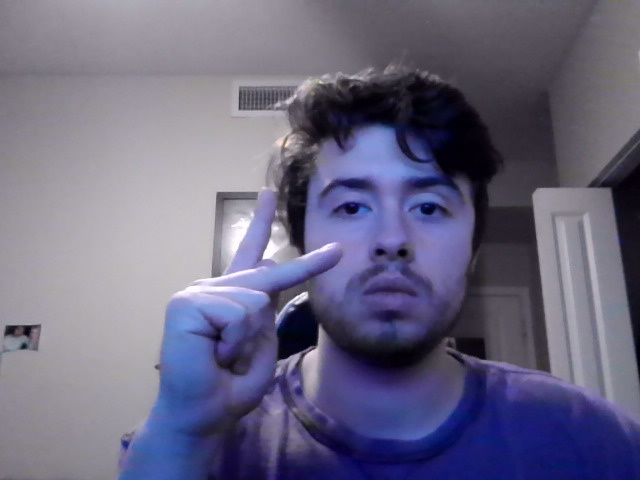k: (158, 187, 345, 446)
